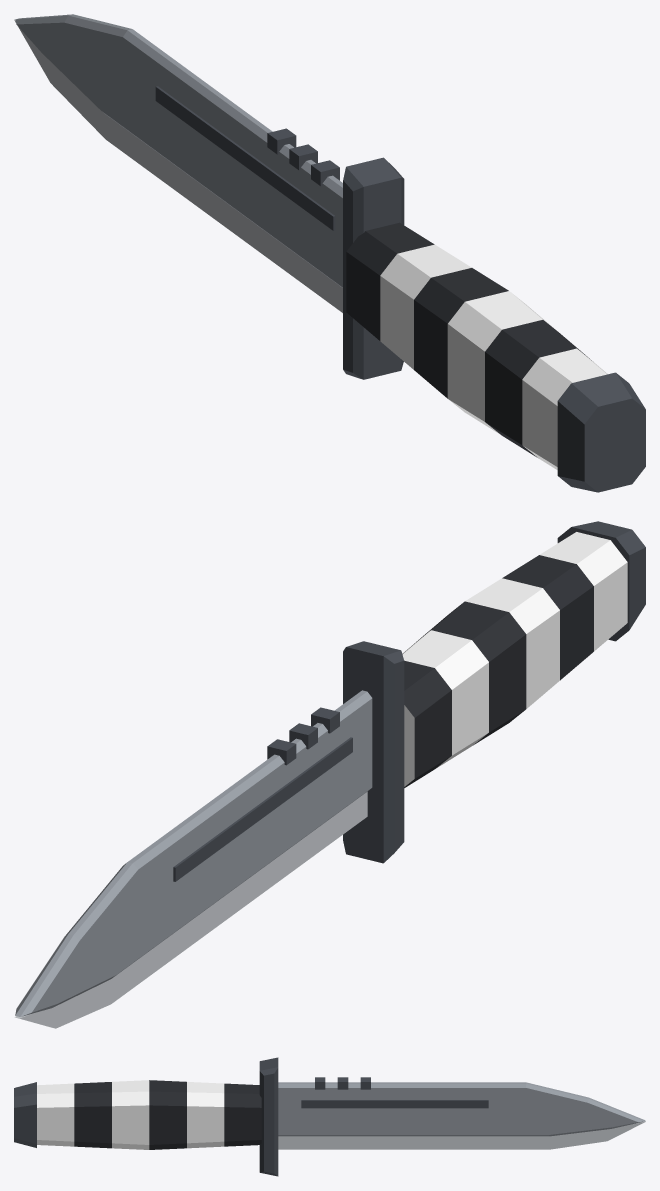
The model's file is knife.glb.
3 renders of one model, top to bottom at view 1: azimuth 30°, elevation 25°; view 2: azimuth 150°, elevation 25°; view 3: azimuth 270°, elevation 25°, orthographic. The views are drawn at different scales.
Visible parts, largest first — view 1: knife__body; view 2: knife__body; view 3: knife__body.
Part boxes in pixels (left/top/right/bottom): knife__body: left=14, top=14, right=645, bottom=492; knife__body: left=14, top=521, right=645, bottom=1028; knife__body: left=14, top=1057, right=645, bottom=1176.
Bounding box in the file's own units: 0.023 × 0.058 × 0.3035.
Materials: 1 (1 with a texture image).
